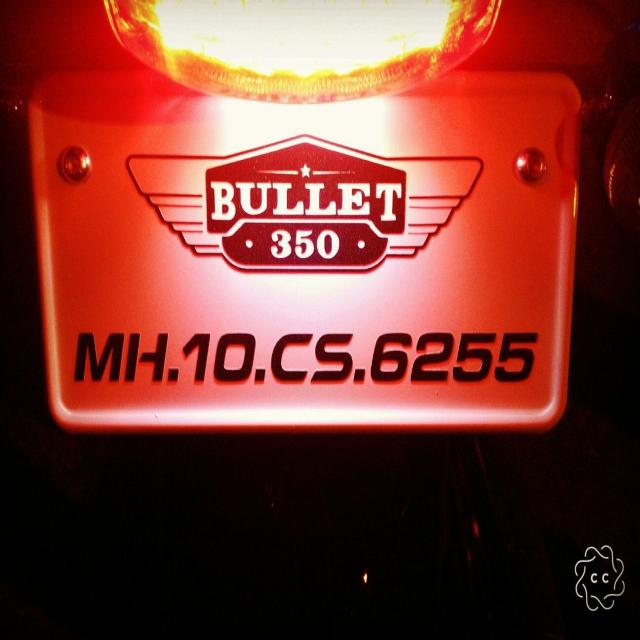license_plate: (26, 62, 583, 435)
